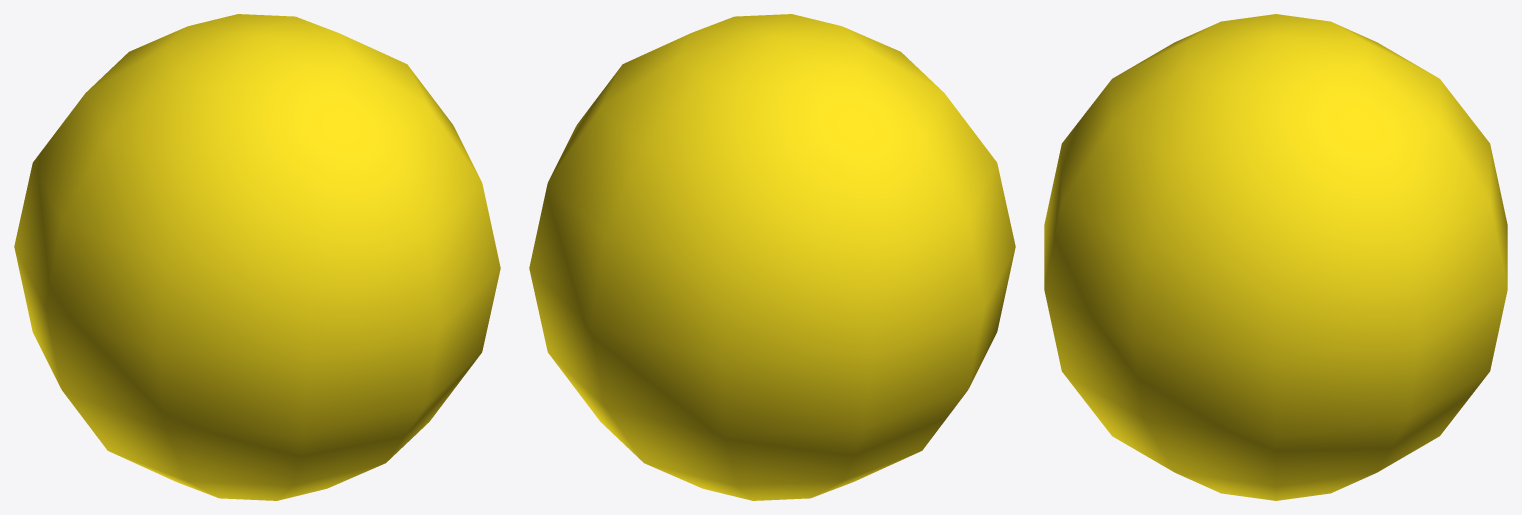
Rendered from trovissideo_stage2.obj.
3 views of the same model, side by side, from view 1: azimuth 30°, elevation 25°; view 2: azimuth 150°, elevation 25°; view 3: azimuth 270°, elevation 25° (orthographic).
Bounding box in the file's own units: 2 × 2 × 1.9.
